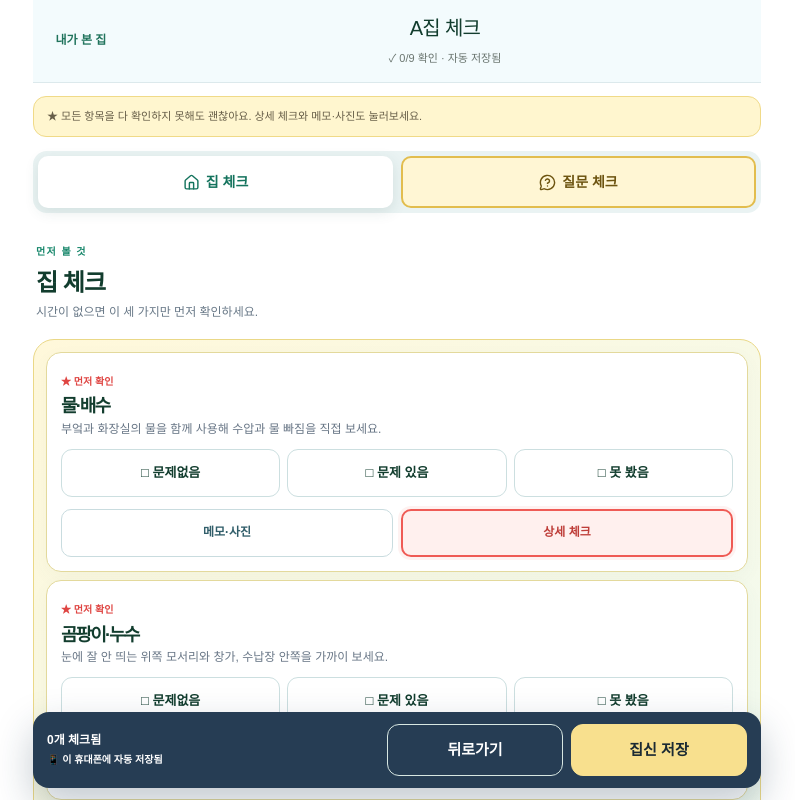
Test case: 초보 임차인 현장 체크 › 물어볼 것을 우선순위대로 열고 답변을 메모할 수 있다
What coordinates should you click on to do the following:
click the button "질문 체크"
I would click on:
 (578, 182)
Its box is [401,156,756,208].
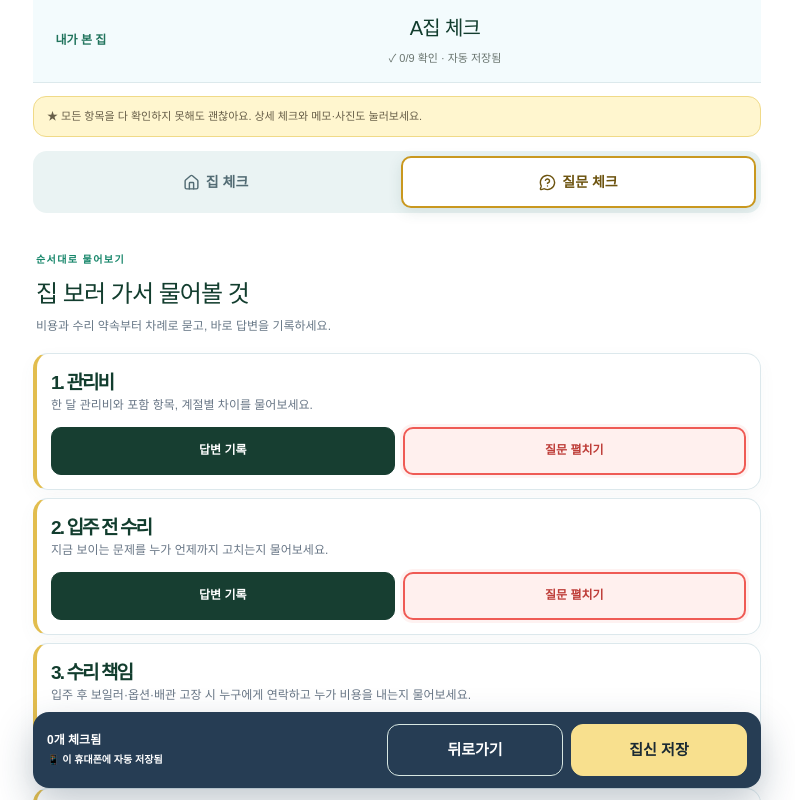
Now the button with aria-label "관리비 답변 기록" is shown, box [51,427,394,475]
